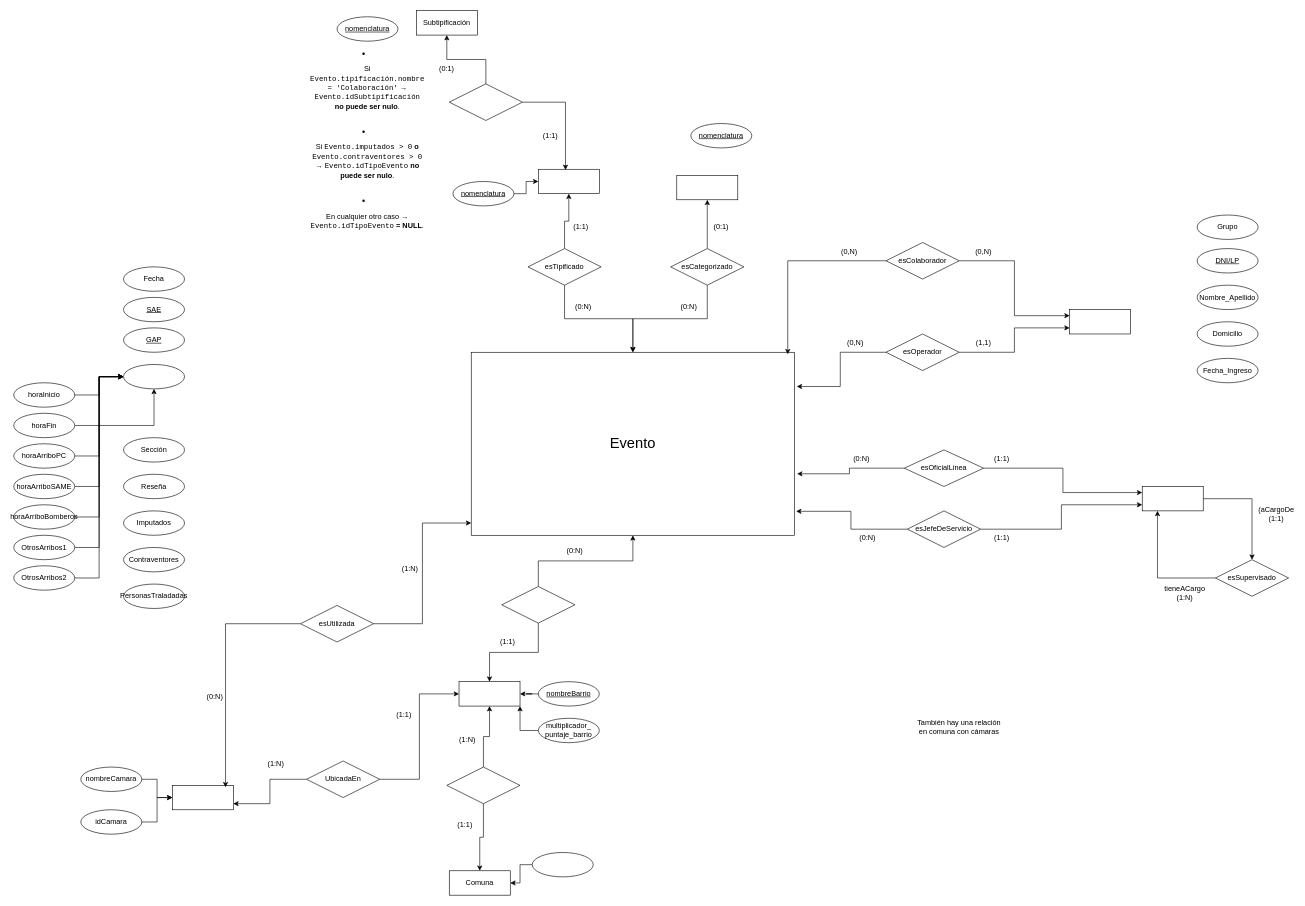
Image size: 1305x906. Some labels were removed from this diagram. Here are the shapes that lost their labels. From the top down, the centre of each, then its label:
At point 485,101: "esSubtipificado".
At point 568,181: "Tipificación".
At point 707,187: "TipoEvento".
At point 1100,321: "Auxiliar/Contratado".
At point 154,376: "Horarios".
At point 1172,498: "Oficial".
At point 538,604: "TranscurridoEn".
At point 489,693: "Barrio".
At point 202,797: "Cámara".
At point 483,785: "Pertenece".
At point 562,864: "nombreComuna".
